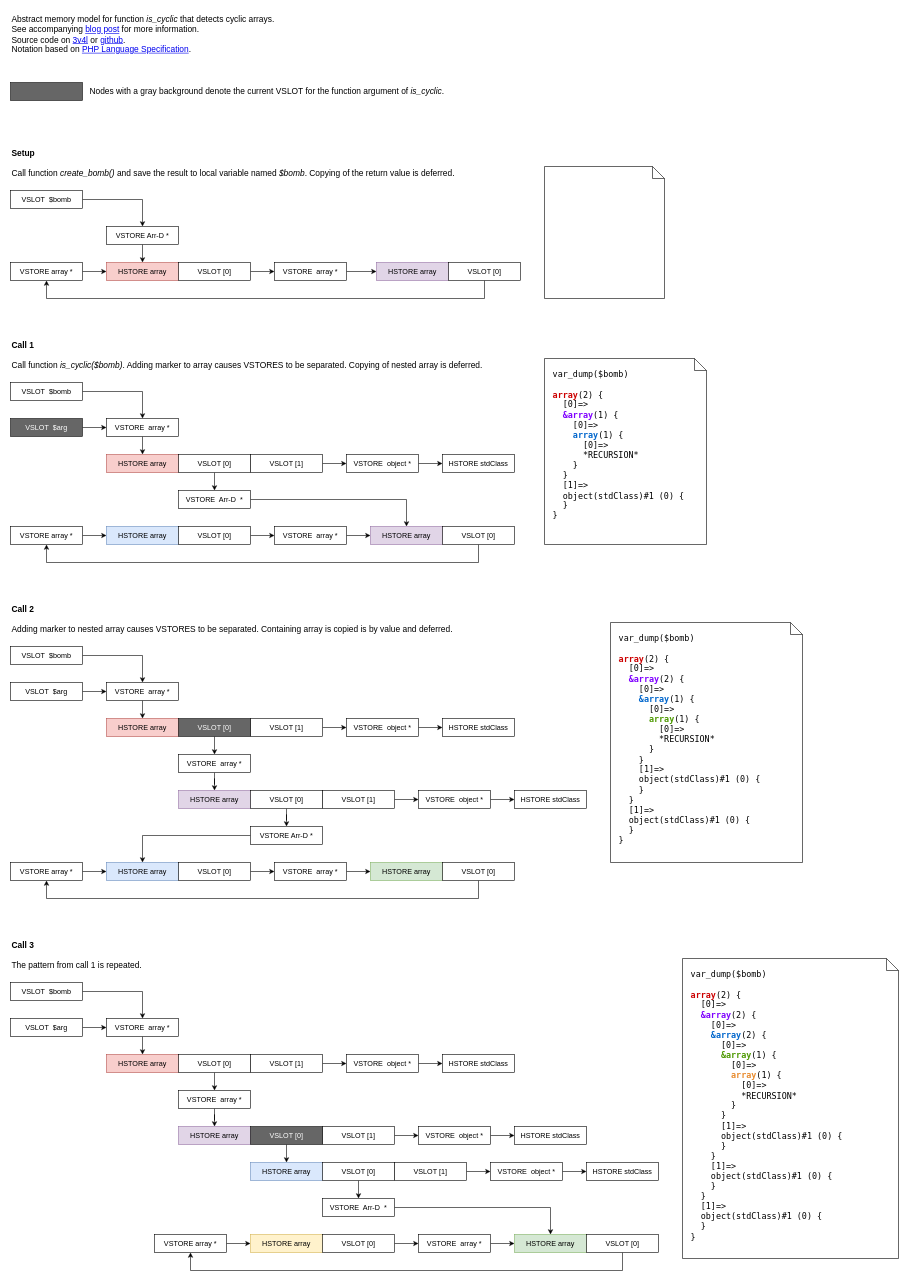
Image size: 909x1286. Some labels were removed from this diagram. Each missing label, with the box of its shape:
var_dump($bomb) array (1) { [0]=> array (1) { [0]=> *RECURSION* } }: (544, 166, 664, 298)
VSLOT $foo: (10, 82, 82, 100)
